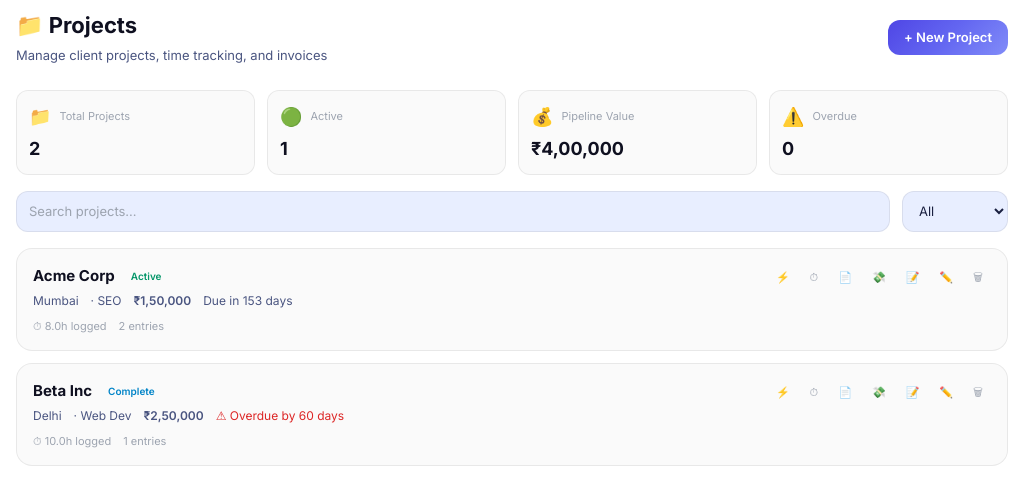
Scenario: ProjectsTab › filtering › filters projects by status
Expected: the heading "Acme Corp" is shown, x1=33 y1=265 x2=115 y2=288
Select "Active" in the dropdown showing "All" at (955, 211), box x1=902 y1=190 x2=1008 y2=232
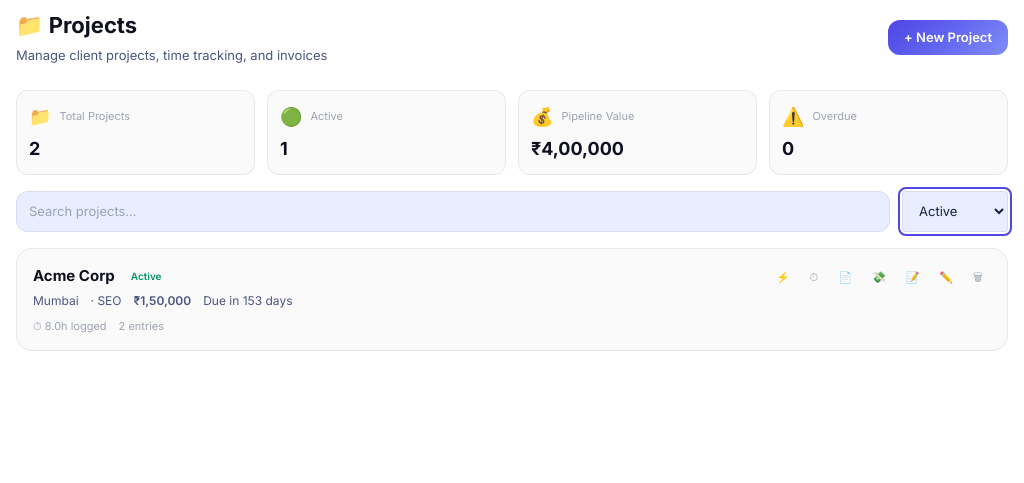
Expected: the heading "Acme Corp" is shown, x1=33 y1=265 x2=115 y2=288
Expected: the heading "Beta Inc" is gone
